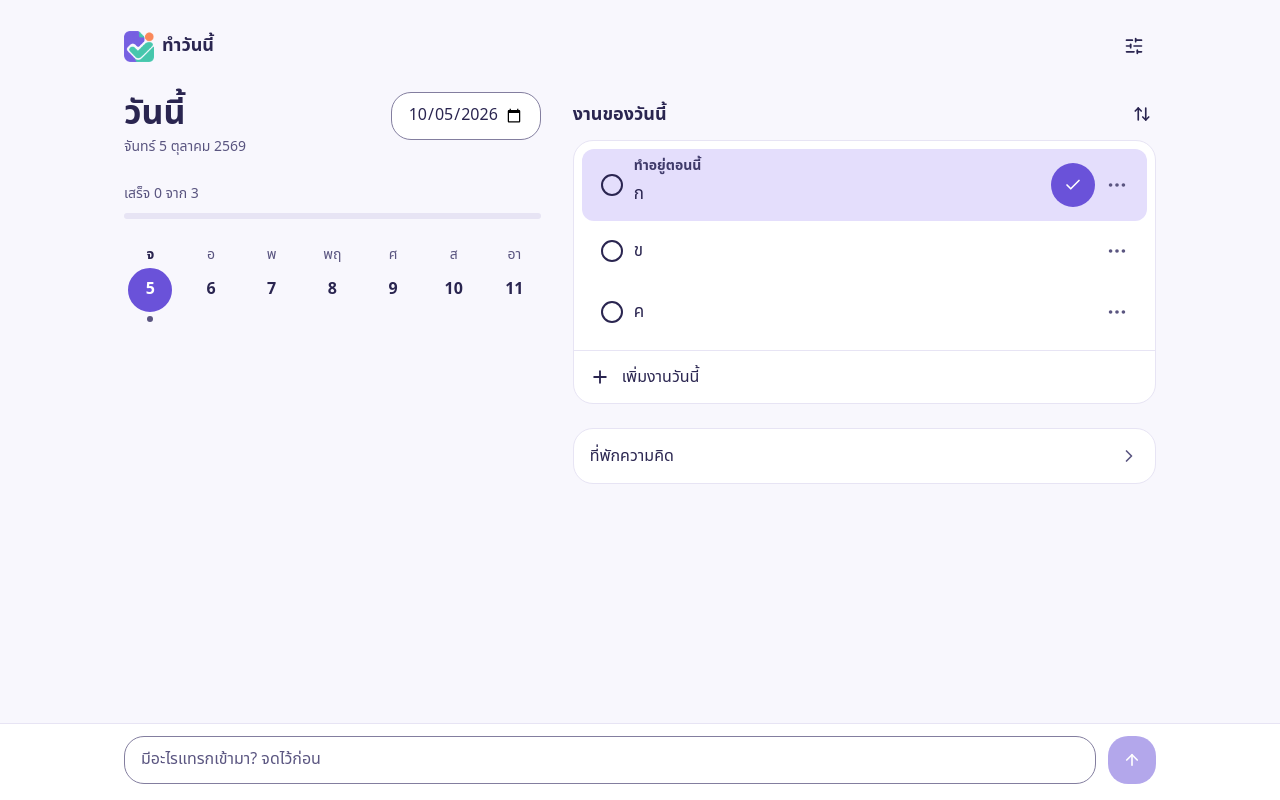
Scenario: DayPage (เฟส 2) › จัดลำดับขึ้น/ลง และปุ่มที่ขอบกดไม่ได้
The image size is (1280, 800).
Click the button named "ตัวเลือกของ ค". click: click(1117, 312)
box: [1095,290,1139,334]
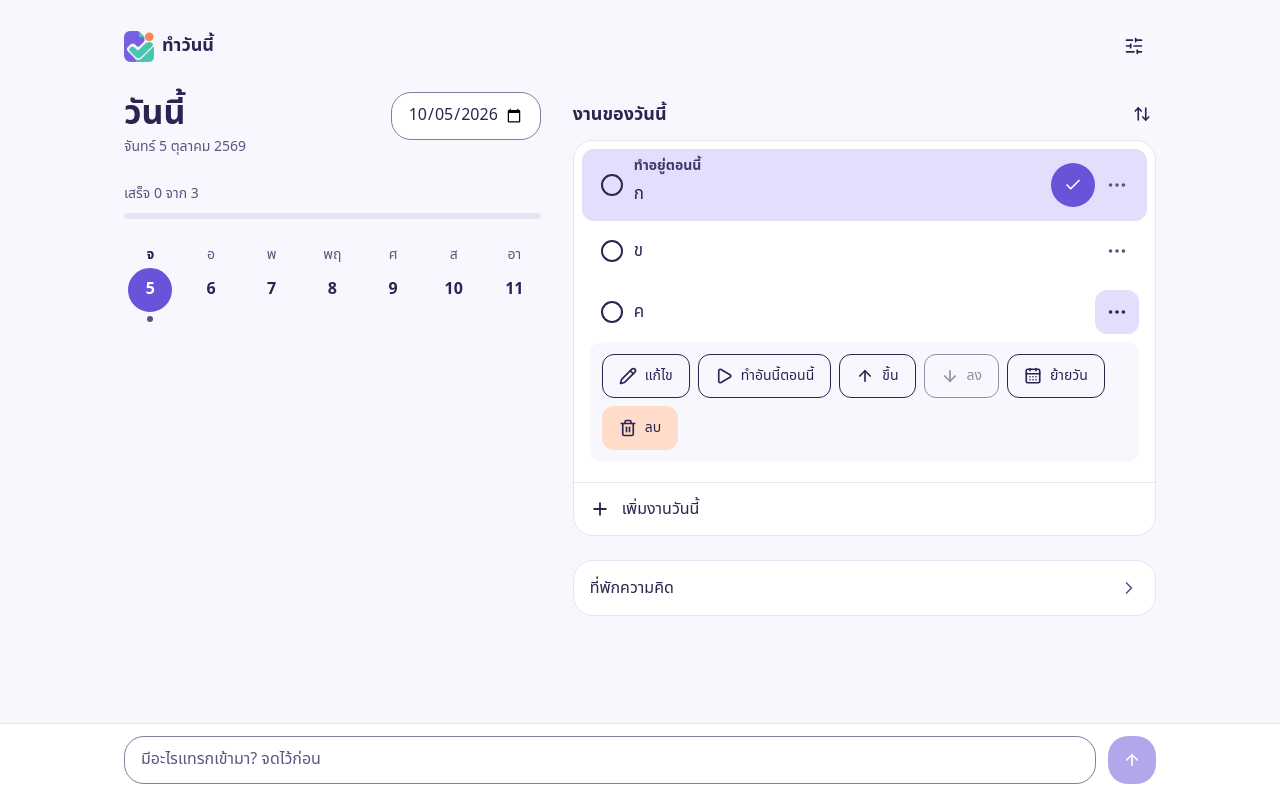
expect the button with aria-label "เลื่อนลง: ค" is disabled: met, box [924,354,999,398]
Click the button named "เลื่อนขึ้น: ค". click: click(877, 376)
box: [839,354,916,398]
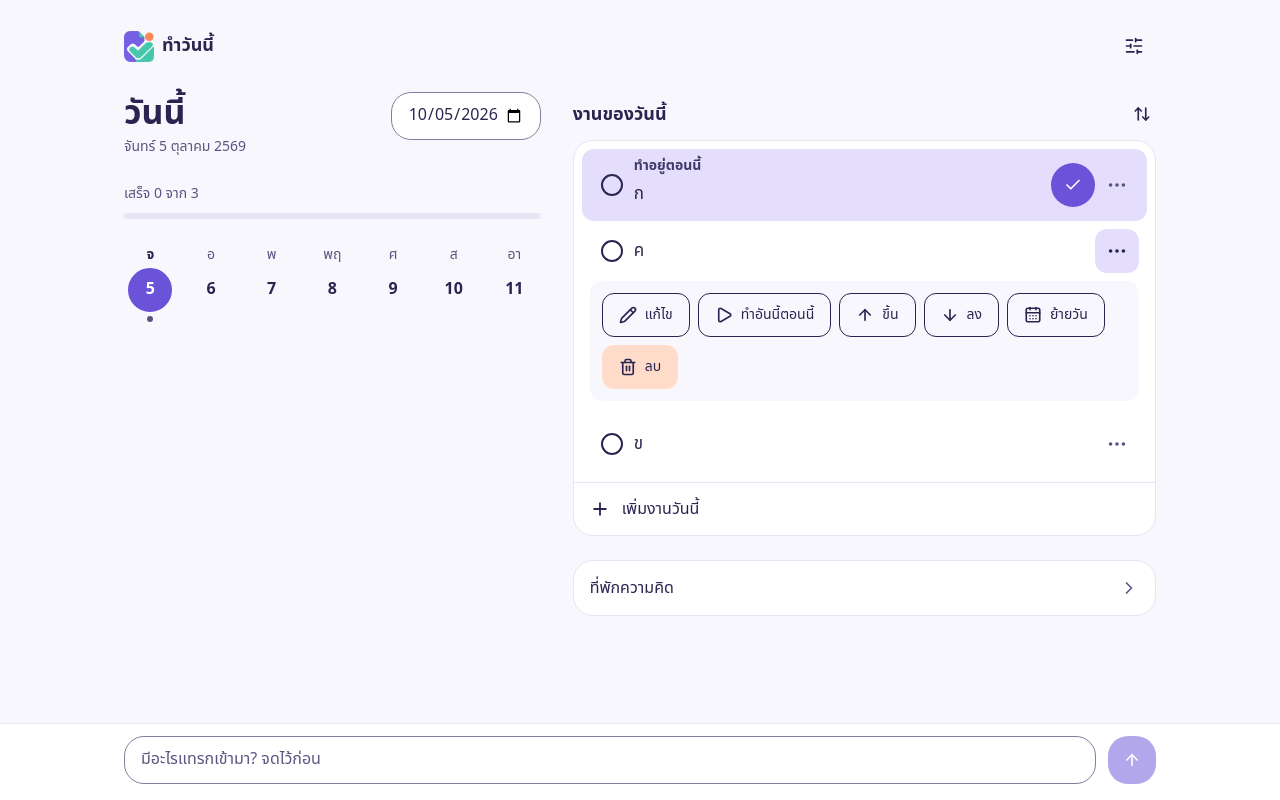
Click the button named "เลื่อนขึ้น: ค". click: click(877, 315)
box: [839,293,916,337]
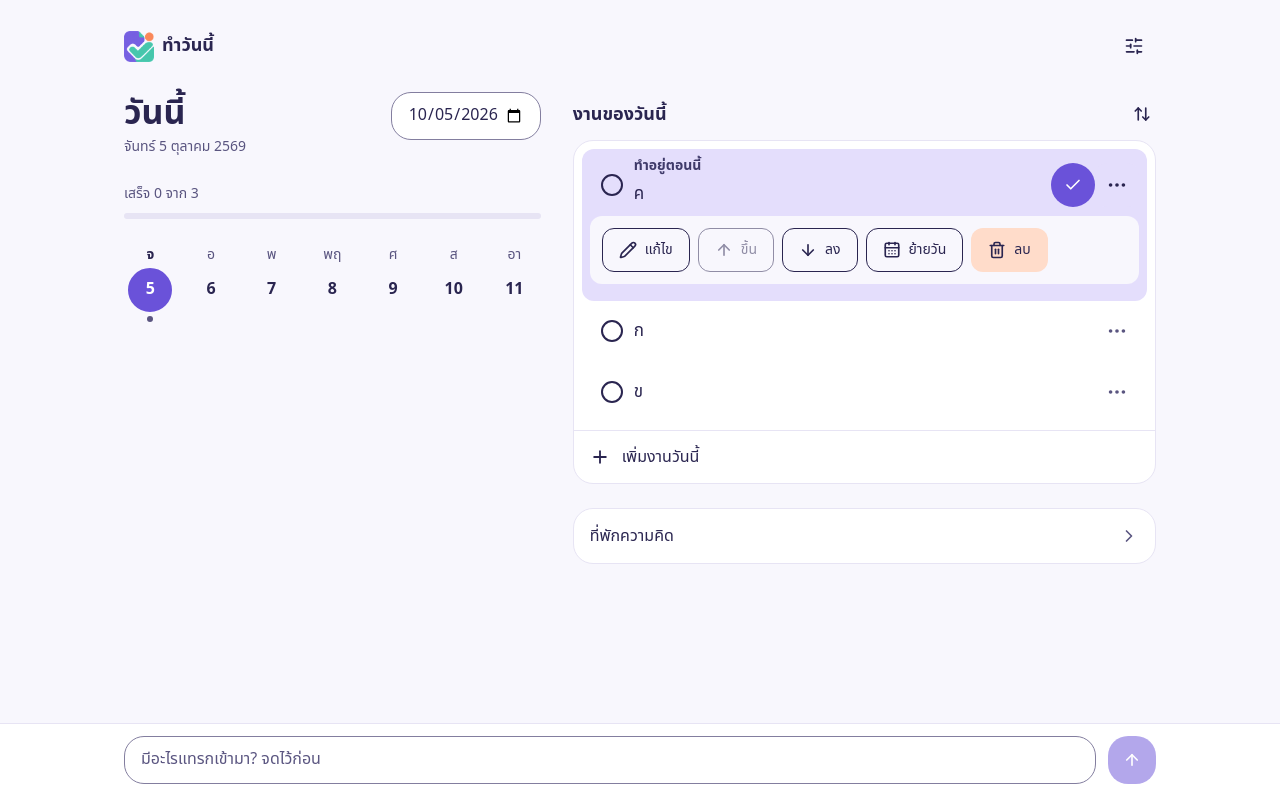
expect the button named "เลื่อนขึ้น: ค" is disabled: met, box [698,228,774,272]
